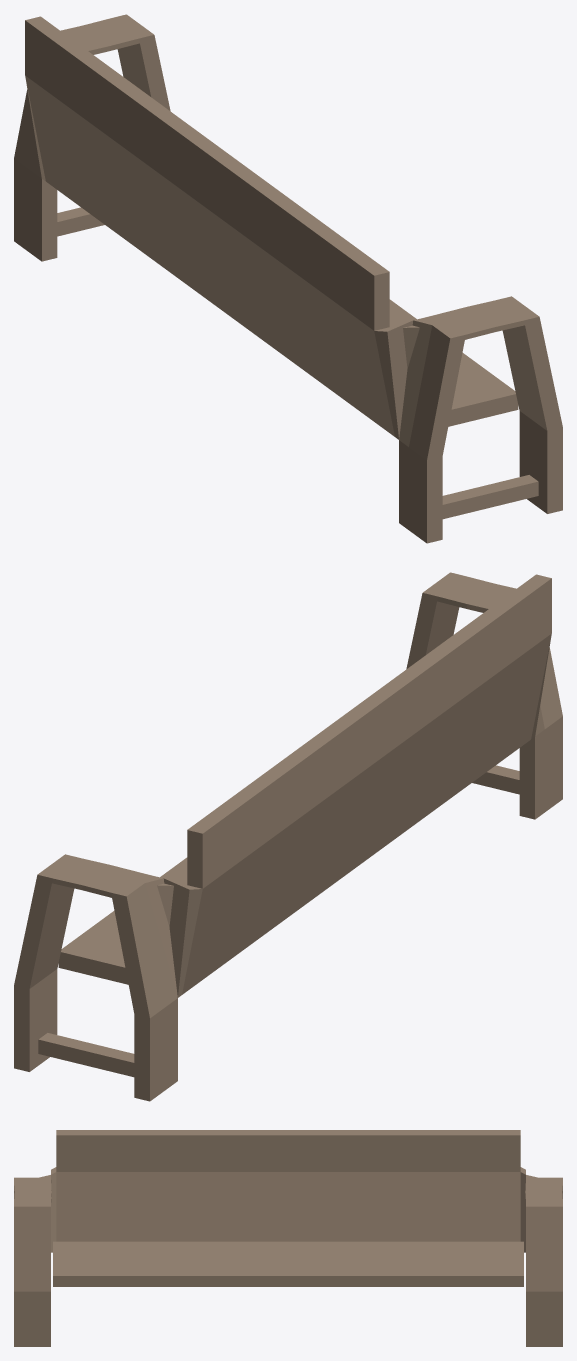
File: Bench.fbx
3 views of the same model, one above another, from view 1: azimuth 30°, elevation 25°; view 2: azimuth 150°, elevation 25°; view 3: azimuth 270°, elevation 25° (orthographic). The views are drawn at different scales.
Parts seen in each view (by area): view 1: Bench; view 2: Bench; view 3: Bench.
Boxes of the visible parts, x1,y1,x2,y2 form: Bench: (14, 14, 562, 543); Bench: (14, 572, 562, 1101); Bench: (14, 1130, 562, 1346).
Size of the model in its own units: 1054 by 1602 by 4806.
